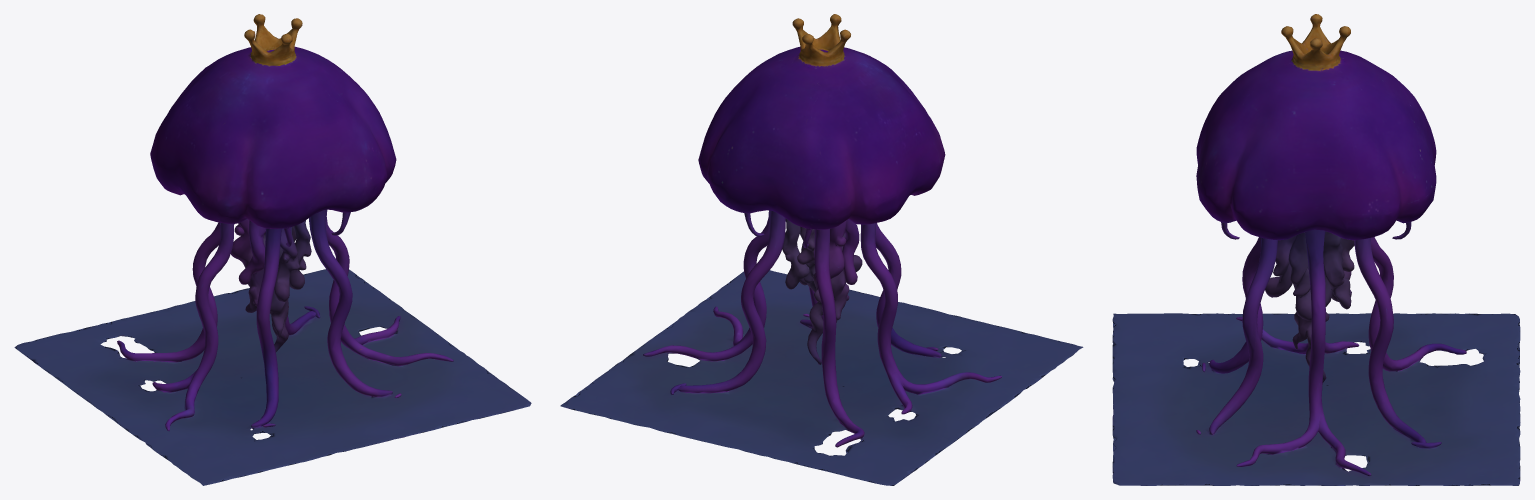
Rendered from boss_z20_nebulaqueen.glb.
The picture shows the model from 3 angles, left to right: view 1: azimuth 30°, elevation 25°; view 2: azimuth 150°, elevation 25°; view 3: azimuth 270°, elevation 25°; orthographic projection. The views are drawn at different scales.
Parts seen in each view (by area): view 1: geometry_0; view 2: geometry_0; view 3: geometry_0.
Part boxes in pixels (x1,y1,x2,y2): geometry_0: [14, 14, 531, 485]; geometry_0: [560, 14, 1083, 485]; geometry_0: [1112, 14, 1520, 485].
Size of the model in its own units: 0.9869 by 1 by 0.987.
Materials: 1 (1 with a texture image).
